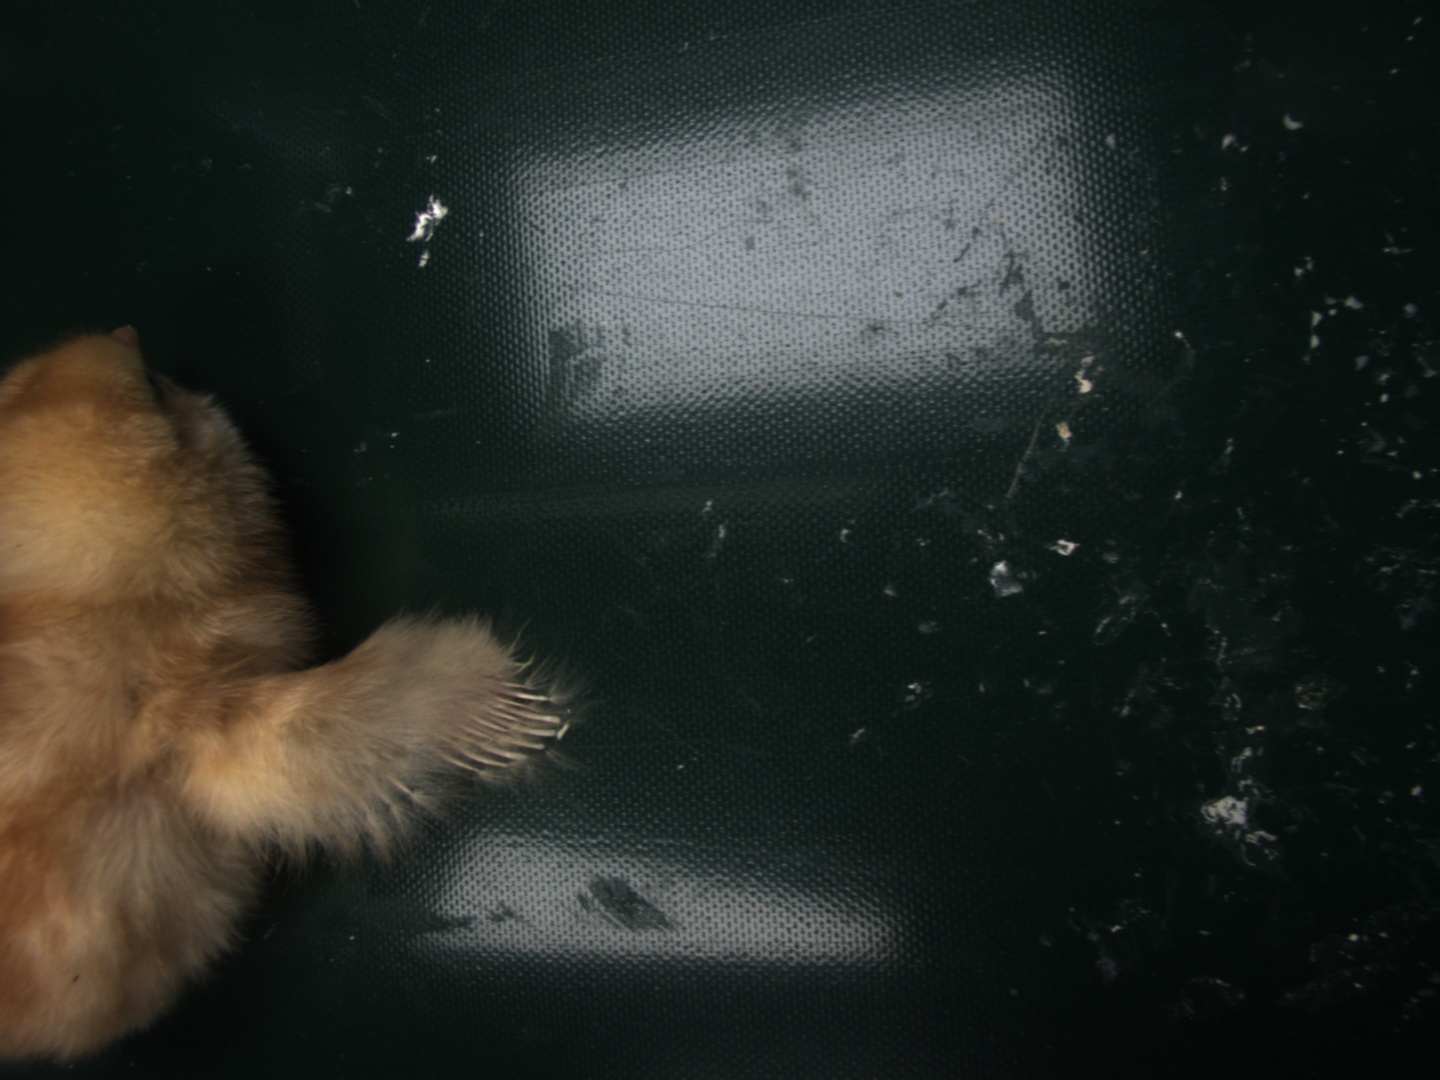female: (434, 677, 560, 774)
